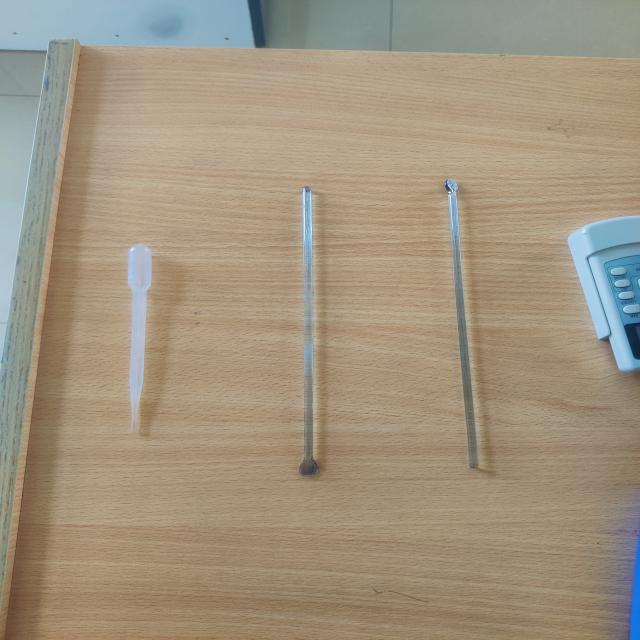Glass_Rod: (259, 165, 374, 509), (427, 159, 526, 491)
Pipette: (77, 196, 192, 474)
